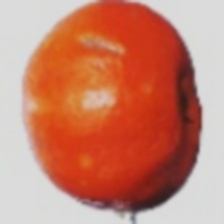tangerine: (0, 30, 197, 179)
